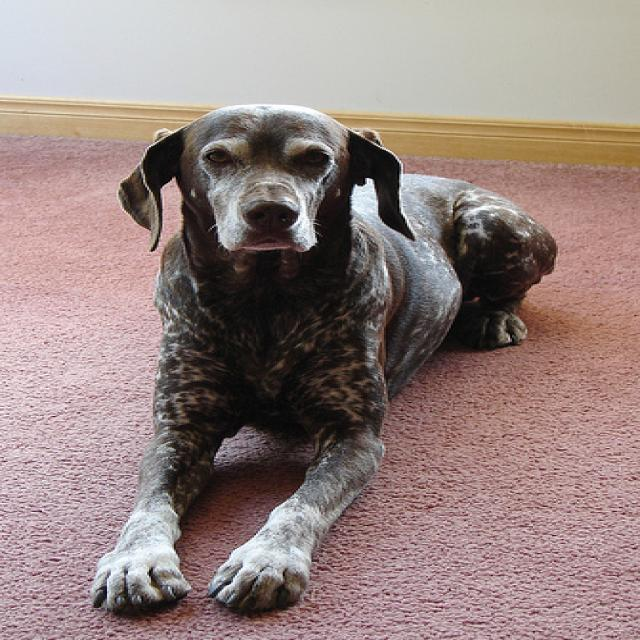dog-german_shorthaired: (78, 101, 560, 621)
